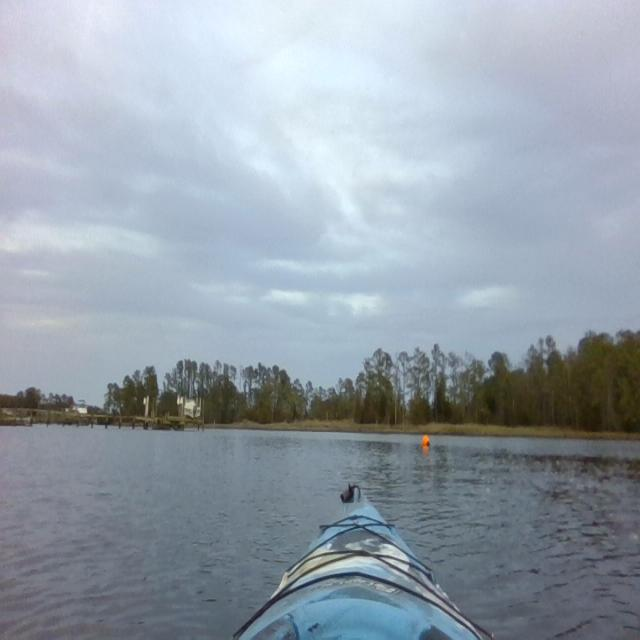Buoy: (422, 433, 431, 451)
